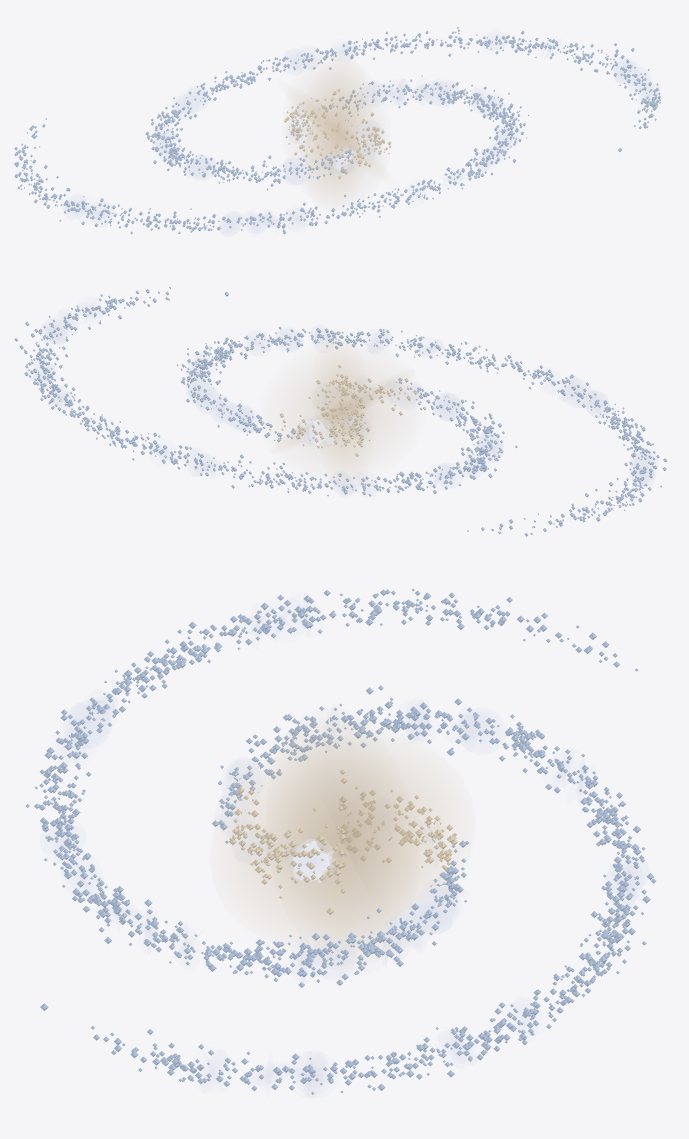
The picture shows the model from 3 angles, top to bottom: view 1: azimuth 30°, elevation 25°; view 2: azimuth 150°, elevation 25°; view 3: azimuth 270°, elevation 25°; orthographic projection. The views are drawn at different scales.
Size of the model in its own units: 7.19 by 1.78 by 4.
